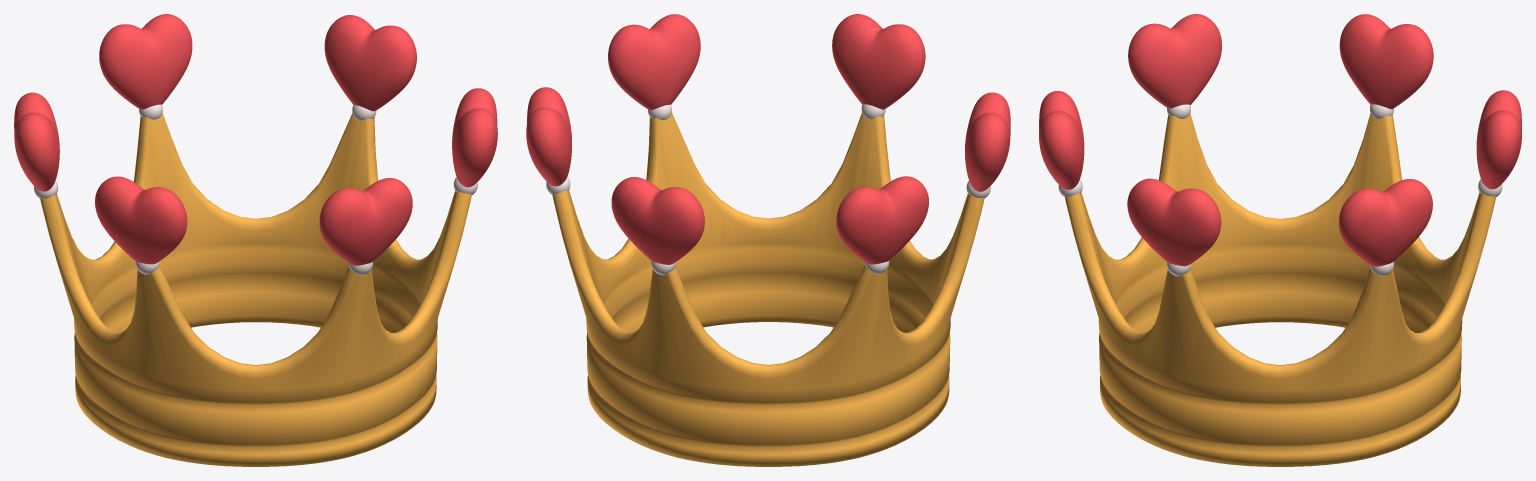
The model's file is Crown.fbx.
3 views of the same model, side by side, from view 1: azimuth 30°, elevation 25°; view 2: azimuth 150°, elevation 25°; view 3: azimuth 270°, elevation 25° (orthographic).
Parts seen in each view (by area): view 1: Crown; view 2: Crown; view 3: Crown.
Part boxes in pixels (x1=…): Crown: x1=14, y1=14, x2=497, y2=466; Crown: x1=526, y1=14, x2=1010, y2=466; Crown: x1=1039, y1=14, x2=1521, y2=466.
Size of the model in its own units: 11.39 by 8.01 by 12.12.
